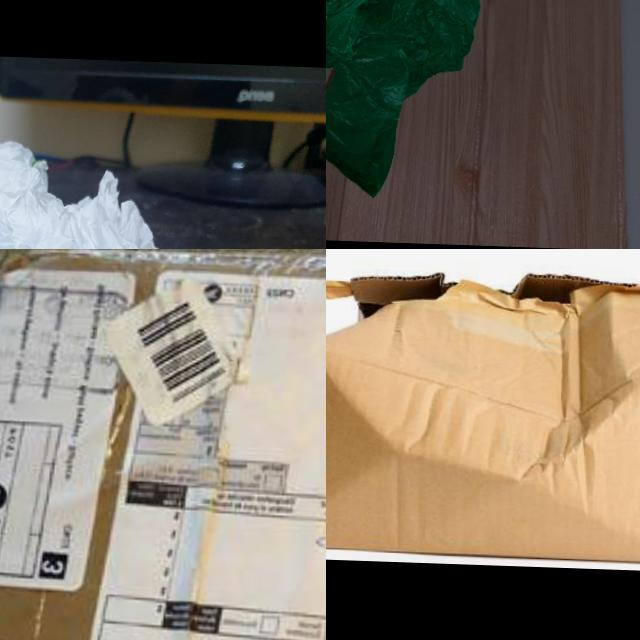papelão: (0, 249, 326, 640), (326, 261, 640, 568)
sacola plástica: (326, 0, 491, 198), (0, 135, 201, 249)
